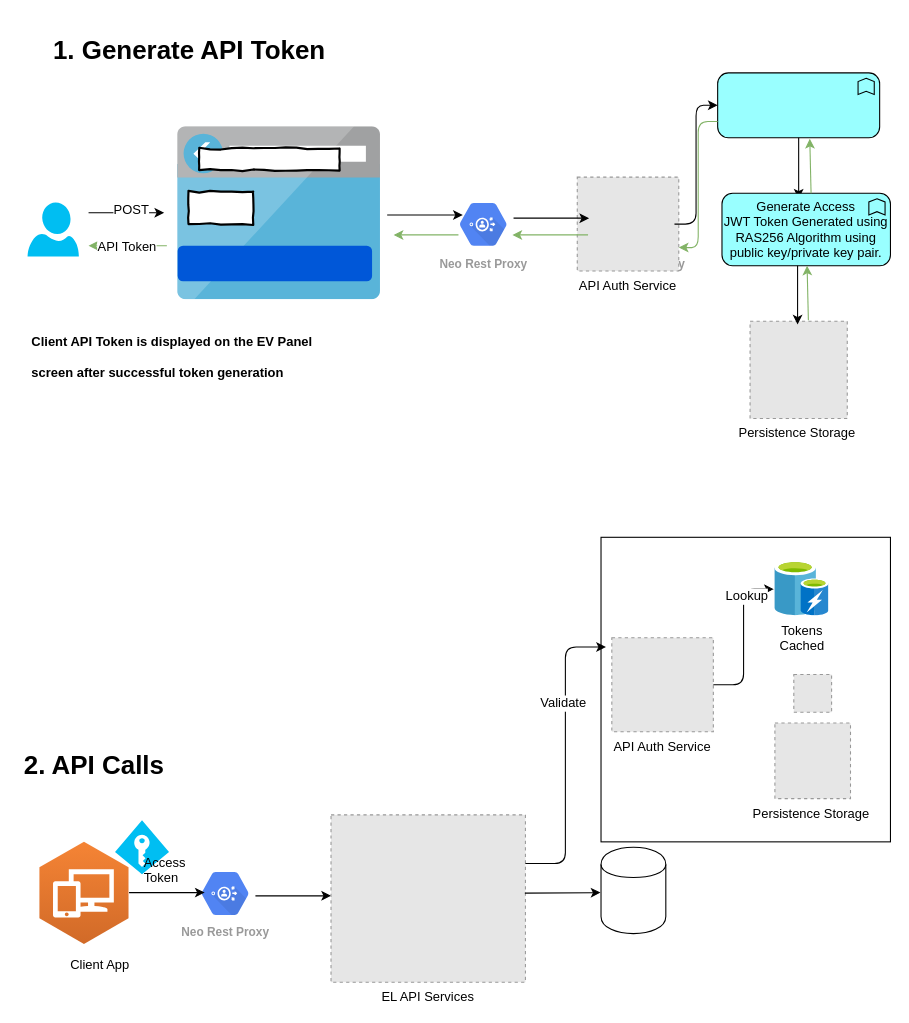
The diagram is 909 pixels wide and 1023 high, and some of its shapes have lost their labels. Grey dashed boxes stand in for pictures. The shapes that lost their labels are listed below. From the top down, each one's centre as x and y in pixels, then its label:
At point 798,105: "Check Entitlements Using UBS_NEO_AUTH Cookie".
At point 269,159: "https://neo.ubs.com".
At point 220,207: "AppId".
At point 274,263: "Generate API access Token".
At point 633,890: "Repository".
